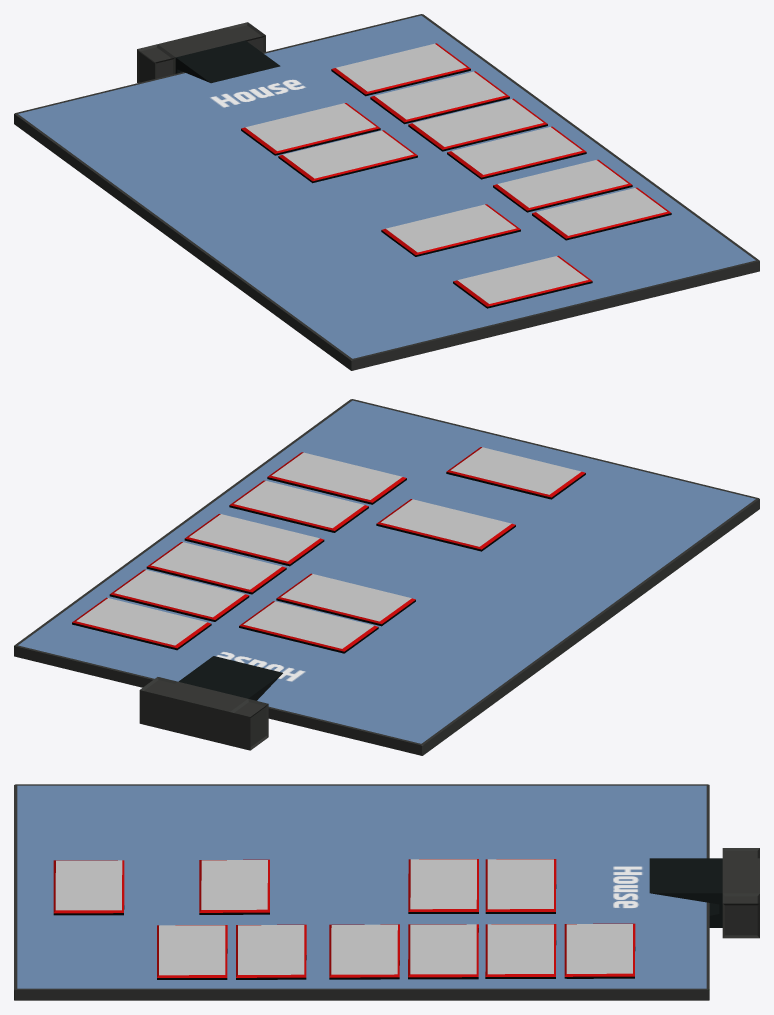
Rendered from clip_house_hateful_eight.obj.
3 renders of one model, top to bottom at view 1: azimuth 30°, elevation 25°; view 2: azimuth 150°, elevation 25°; view 3: azimuth 270°, elevation 25°, orthographic. The views are drawn at different scales.
Visible parts, largest first — view 1: clipboard_house; view 2: clipboard_house; view 3: clipboard_house.
Boxes of the visible parts, x1=… form: clipboard_house: x1=14, y1=14, x2=759, y2=370; clipboard_house: x1=14, y1=399, x2=759, y2=755; clipboard_house: x1=14, y1=784, x2=759, y2=1000.
Size of the model in its own units: 0.2144 by 0.0169 by 0.3289.
Materials: 34 (1 with a texture image).
